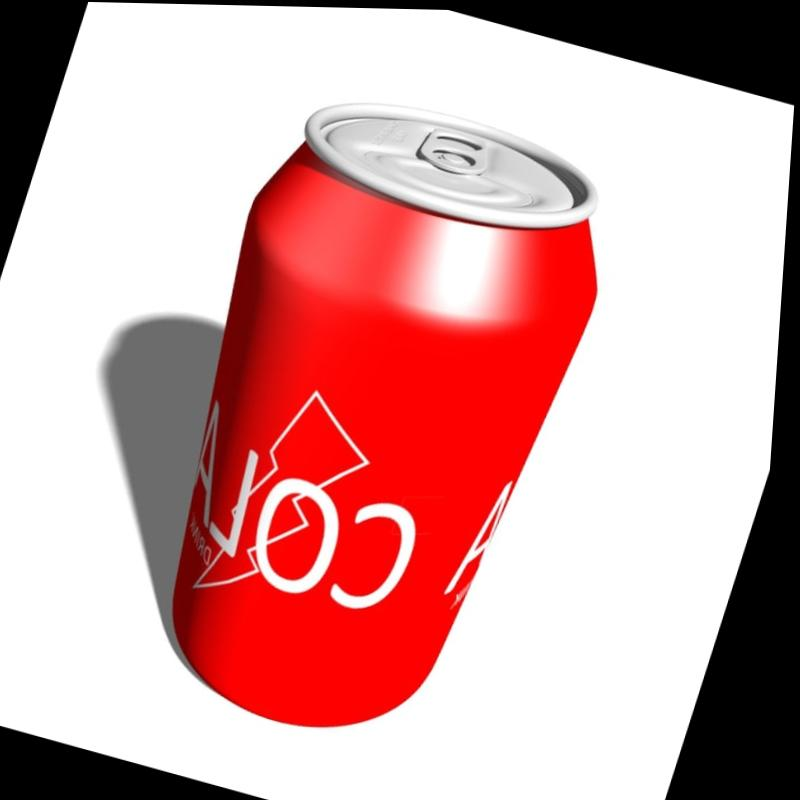metal: (172, 104, 595, 725)
